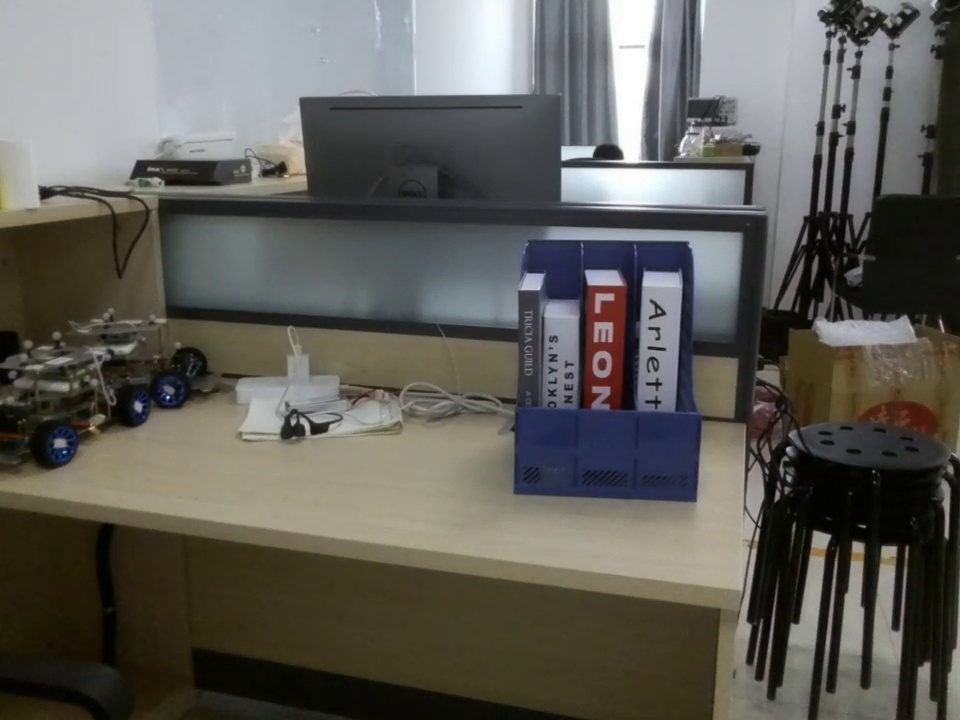files: (510, 234, 708, 506)
